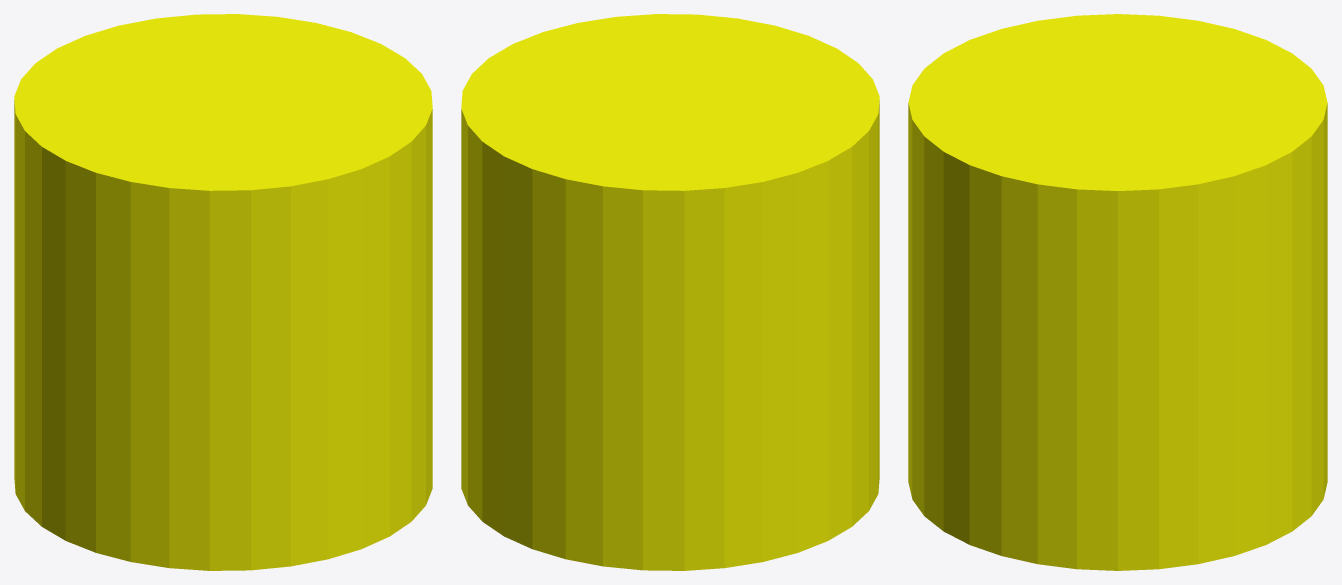
3 renders of one model, left to right at view 1: azimuth 30°, elevation 25°; view 2: azimuth 150°, elevation 25°; view 3: azimuth 270°, elevation 25°, orthographic.
Parts seen in each view (by area): view 1: Cilindro; view 2: Cilindro; view 3: Cilindro.
Part boxes in pixels (x1,y1,x2,y2): Cilindro: (14, 14, 432, 570); Cilindro: (461, 14, 879, 570); Cilindro: (908, 14, 1327, 570).
Bounding box in the file's own units: 2 × 2 × 2.
Materials: 1 (1 with a texture image).
